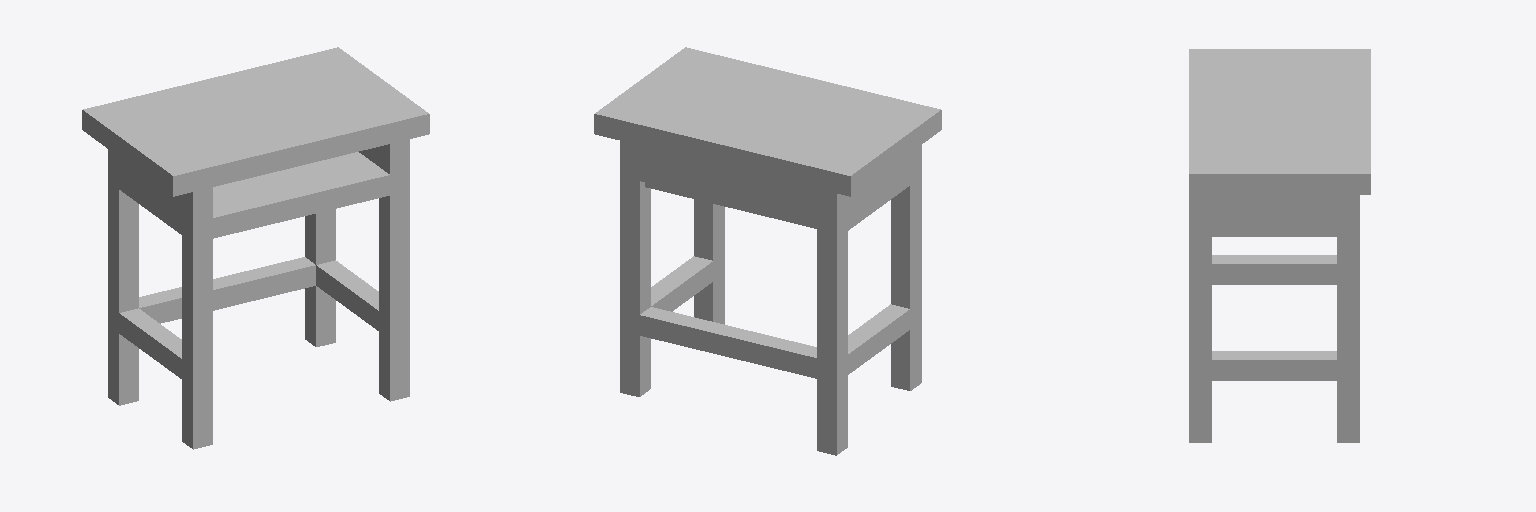
File: desk.obj
The picture shows the model from 3 angles: view 1: azimuth 30°, elevation 25°; view 2: azimuth 150°, elevation 25°; view 3: azimuth 270°, elevation 25°; orthographic projection.
Visible parts, largest first — view 1: group[number redacted], group[number redacted], group[number redacted], group[number redacted], group[number redacted], group[number redacted], group[number redacted], group[number redacted], group[number redacted], group[number redacted]; view 2: group[number redacted], group[number redacted], group[number redacted], group[number redacted], group[number redacted], group[number redacted], group[number redacted], group[number redacted], group[number redacted], group[number redacted], group[number redacted]; view 3: group[number redacted], group[number redacted], group[number redacted], group[number redacted], group[number redacted], group[number redacted], group[number redacted].
Part boxes in pixels (x1,y1,x2,y2): group[number redacted]: (82,47,429,196); group[number redacted]: (114,152,409,241); group[number redacted]: (182,187,212,449); group[number redacted]: (379,139,409,401); group[number redacted]: (108,150,138,405); group[number redacted]: (112,257,315,323); group[number redacted]: (305,209,335,346); group[number redacted]: (117,308,209,387); group[number redacted]: (316,260,383,334); group[number redacted]: (111,153,186,224); group[number redacted]: (594,47,941,196); group[number redacted]: (817,189,847,455); group[number redacted]: (630,144,843,228); group[number redacted]: (620,141,650,396); group[number redacted]: (630,307,847,383); group[number redacted]: (891,145,921,390); group[number redacted]: (694,199,724,324); group[number redacted]: (848,302,921,374); group[number redacted]: (620,256,718,332); group[number redacted]: (645,157,921,230); group[number redacted]: (837,154,909,222); group[number redacted]: (1189,49,1370,194); group[number redacted]: (1189,195,1211,442); group[number redacted]: (1337,195,1359,442); group[number redacted]: (1200,195,1359,225); group[number redacted]: (1212,255,1336,284); group[number redacted]: (1212,351,1336,380); group[number redacted]: (1189,216,1346,236).
Size of the model in its own units: 0.26 by 0.28 by 0.16.